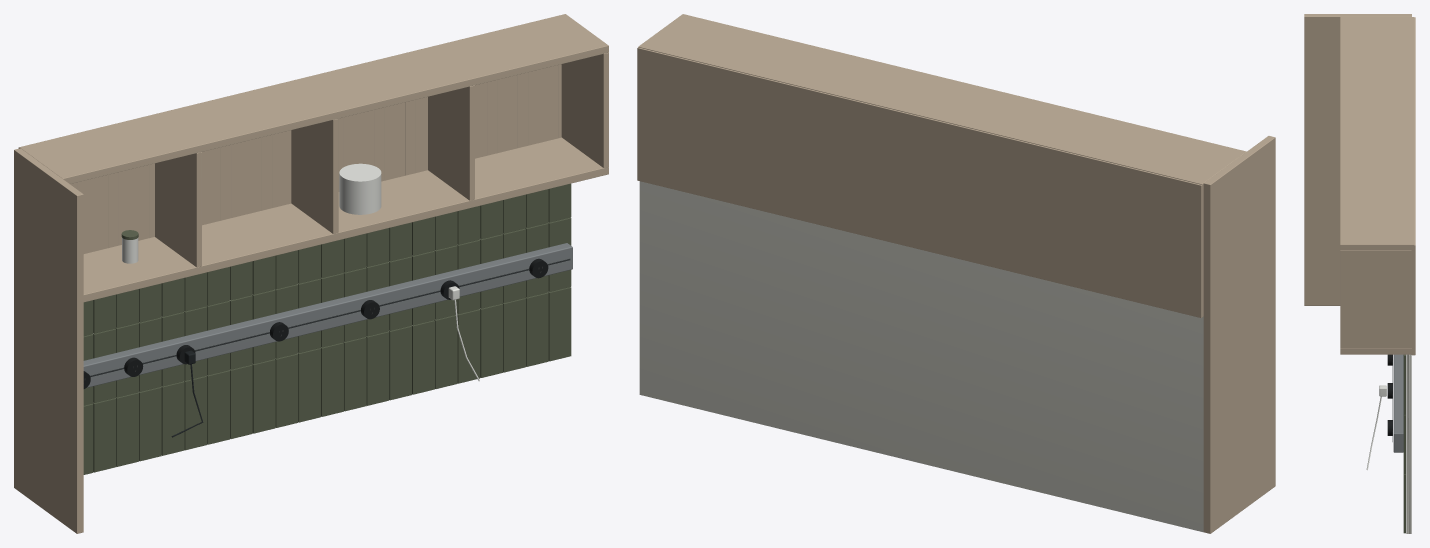
File: lod0_source.glb
The picture shows the model from 3 angles, left to right: view 1: azimuth 30°, elevation 25°; view 2: azimuth 150°, elevation 25°; view 3: azimuth 270°, elevation 25°; orthographic projection. The views are drawn at different scales.
Parts seen in each view (by area): view 1: Upper shelf top plank, Upper open shelf back, Left cabinet tall return, Upper shelf lower plank, Grey socket track, Upper open cubby divider.002, Upper open cubby divider.004, Upper open cubby divider.001, Upper open cubby divider.003, Plain white shelf bowl, Vertical olive tile 15 0, Vertical olive tile 11 0 (+63 smaller); view 2: Backsplash warm grout backing, Upper open shelf back, Left cabinet tall return, Upper shelf top plank; view 3: Upper shelf top plank, Left cabinet tall return, Upper open cubby divider.004, Grey socket track, Backsplash warm grout backing, Upper open shelf back, Upper shelf lower plank, Vertical olive tile 23 2, Vertical olive tile 23 1, Vertical olive tile 23 0.
Part boxes in pixels (left/top/right/bottom): Upper shelf top plank: left=19, top=14, right=608, bottom=183; Upper open shelf back: left=18, top=64, right=561, bottom=253; Left cabinet tall return: left=14, top=148, right=83, bottom=533; Upper shelf lower plank: left=83, top=137, right=608, bottom=302; Grey socket track: left=83, top=243, right=572, bottom=387; Upper open cubby divider.002: left=291, top=118, right=338, bottom=233; Upper open cubby divider.004: left=561, top=52, right=608, bottom=167; Upper open cubby divider.001: left=155, top=152, right=201, bottom=267; Upper open cubby divider.003: left=428, top=85, right=474, bottom=200; Plain white shelf bowl: left=339, top=163, right=381, bottom=214; Vertical olive tile 15 0: left=366, top=331, right=389, bottom=405; Vertical olive tile 11 0: left=275, top=353, right=298, bottom=427; Backsplash warm grout backing: left=639, top=181, right=1203, bottom=532; Upper open shelf back: left=637, top=47, right=1203, bottom=317; Left cabinet tall return: left=1203, top=136, right=1275, bottom=533; Upper shelf top plank: left=638, top=14, right=1246, bottom=184; Upper shelf top plank: left=1340, top=17, right=1414, bottom=250; Left cabinet tall return: left=1304, top=14, right=1411, bottom=305; Upper open cubby divider.004: left=1340, top=250, right=1413, bottom=348; Grey socket track: left=1393, top=354, right=1403, bottom=452; Backsplash warm grout backing: left=1406, top=354, right=1411, bottom=533; Upper open shelf back: left=1412, top=17, right=1415, bottom=355; Upper shelf lower plank: left=1340, top=348, right=1413, bottom=354; Vertical olive tile 23 2: left=1403, top=354, right=1405, bottom=414; Vertical olive tile 23 1: left=1403, top=414, right=1405, bottom=473; Vertical olive tile 23 0: left=1403, top=474, right=1405, bottom=533.
Size of the model in its own units: 2.43 by 1.42 by 0.496.
